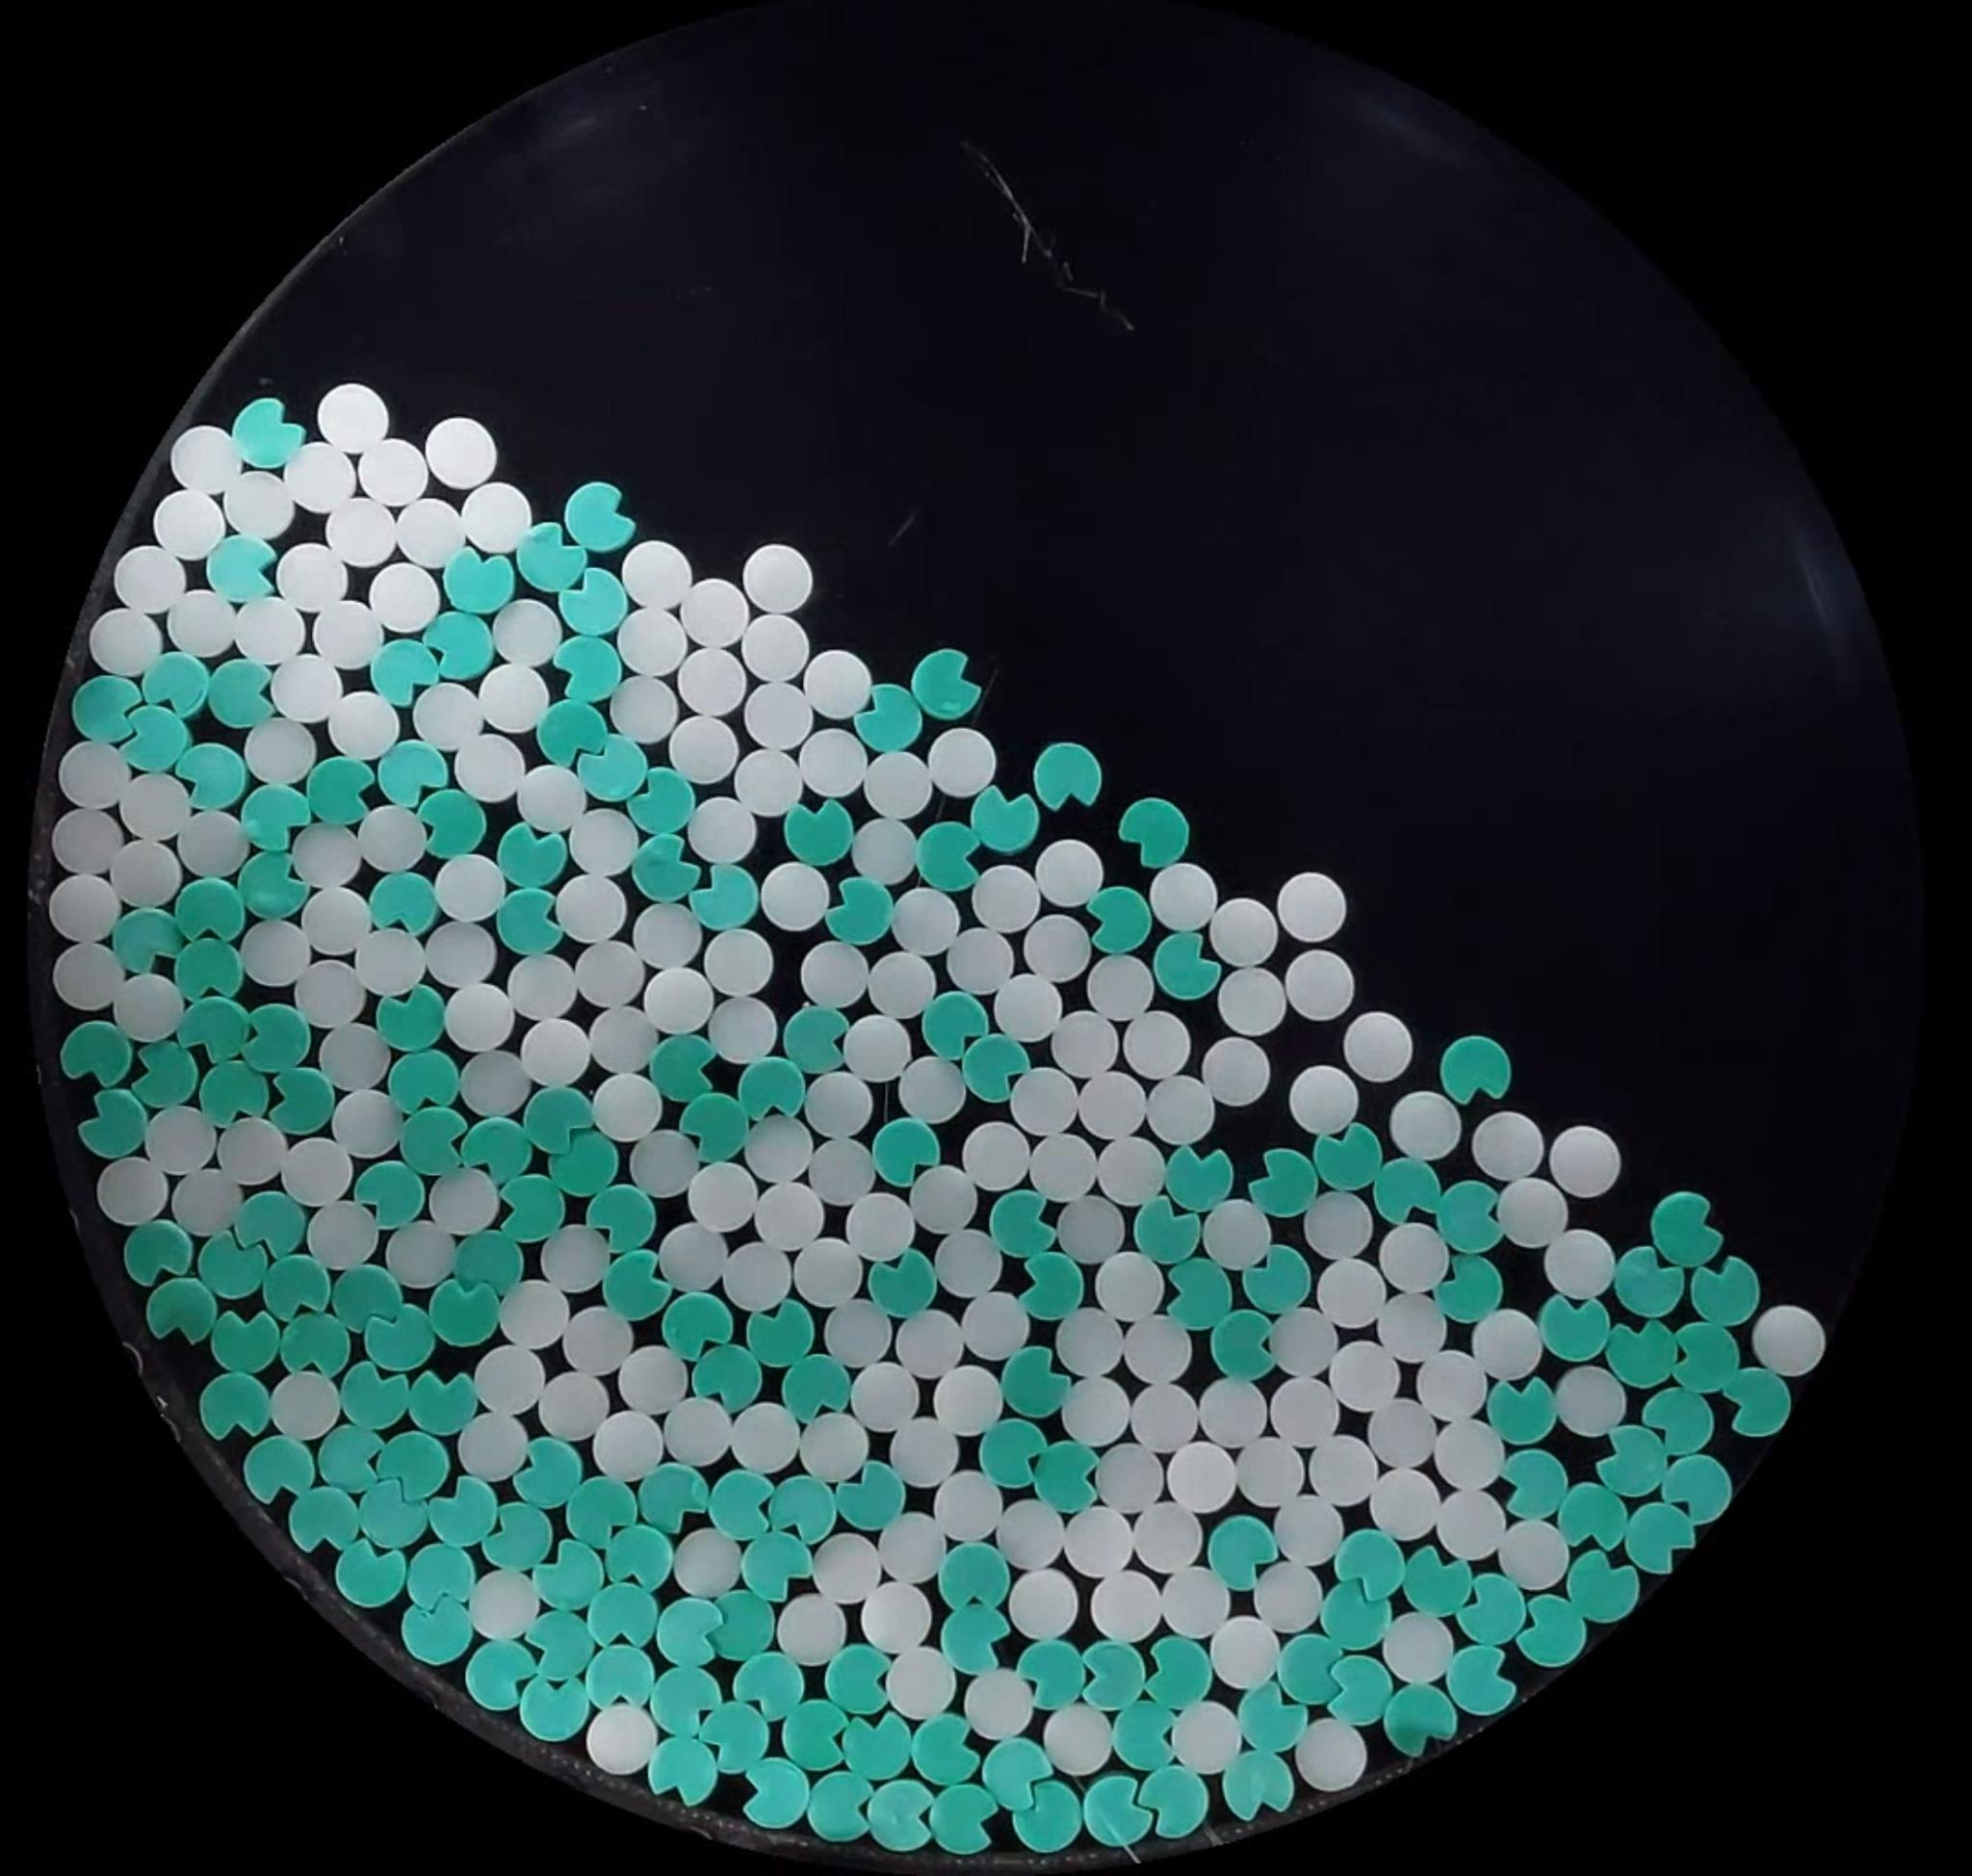no-convexa1: (1606, 1314, 1687, 1395), (1380, 1684, 1467, 1760), (1271, 1631, 1352, 1710), (637, 1462, 715, 1543), (912, 646, 990, 728), (1717, 1360, 1794, 1441), (1639, 1379, 1717, 1460), (1157, 1261, 1236, 1339), (1622, 1496, 1699, 1575), (1116, 794, 1197, 870), (1652, 1185, 1722, 1272), (231, 396, 310, 472), (1564, 1548, 1643, 1624), (137, 1282, 225, 1349), (174, 738, 248, 817), (680, 1092, 759, 1166), (711, 1467, 784, 1548), (930, 1779, 1000, 1862), (977, 1416, 1051, 1494), (1079, 1770, 1153, 1848), (335, 1541, 414, 1614), (1199, 1305, 1278, 1377), (231, 1191, 312, 1261), (563, 479, 637, 555), (424, 606, 500, 680), (204, 657, 278, 733), (375, 1429, 451, 1503), (866, 1247, 942, 1321), (1440, 1034, 1516, 1108), (1611, 1247, 1687, 1321), (736, 1536, 817, 1605), (497, 886, 572, 958), (703, 1700, 775, 1776), (1150, 928, 1225, 1001), (1514, 1599, 1586, 1675), (1484, 1374, 1556, 1450), (1685, 1258, 1761, 1330), (1541, 1293, 1620, 1362), (551, 631, 625, 703), (646, 1735, 720, 1807), (782, 1700, 854, 1774), (938, 1605, 1012, 1677), (780, 1001, 854, 1073), (533, 699, 607, 772), (1444, 1645, 1516, 1719), (1331, 1529, 1403, 1603), (1662, 1453, 1734, 1527), (372, 985, 447, 1055), (560, 1478, 636, 1548), (935, 1545, 1012, 1614), (768, 1469, 833, 1550), (1674, 1314, 1738, 1397), (516, 520, 588, 592), (1030, 1439, 1102, 1511), (1398, 1547, 1470, 1619), (1456, 1575, 1528, 1647), (372, 634, 442, 708), (426, 1480, 500, 1550), (518, 1670, 588, 1744), (653, 1036, 727, 1106), (1236, 1682, 1306, 1756), (1247, 1147, 1321, 1217), (58, 1020, 134, 1089), (361, 1302, 437, 1370), (1326, 1654, 1393, 1732), (1319, 1580, 1396, 1647), (121, 1221, 202, 1284), (1102, 1707, 1183, 1770), (121, 705, 194, 775), (375, 736, 445, 809), (581, 1182, 653, 1252), (342, 1362, 412, 1434), (824, 1645, 896, 1716), (914, 821, 986, 891), (1032, 742, 1102, 814), (1208, 1517, 1278, 1589), (1078, 1642, 1150, 1712), (1372, 1154, 1442, 1226), (659, 1293, 732, 1362), (357, 1483, 431, 1552), (407, 1541, 481, 1610), (403, 1601, 477, 1670), (982, 1739, 1051, 1813), (1310, 1129, 1384, 1198), (984, 1189, 1060, 1256), (1599, 1423, 1666, 1499), (526, 1612, 597, 1682), (1018, 1638, 1088, 1709), (72, 671, 141, 743), (317, 1427, 386, 1499), (650, 1666, 722, 1735), (657, 1598, 725, 1670), (704, 1591, 773, 1663), (843, 1709, 912, 1781), (914, 1716, 986, 1784), (828, 875, 896, 948), (405, 1369, 479, 1436), (537, 1541, 604, 1615), (1437, 1251, 1504, 1325), (685, 865, 761, 930), (694, 1342, 771, 1406), (745, 1754, 806, 1834), (454, 1231, 523, 1302), (289, 1488, 359, 1557), (961, 1034, 1032, 1103), (1002, 1348, 1072, 1416), (1245, 1244, 1313, 1314), (241, 847, 308, 920), (810, 1774, 877, 1846), (784, 801, 856, 868), (1137, 1770, 1210, 1837), (1224, 1753, 1291, 1825), (1498, 1450, 1571, 1517), (310, 750, 375, 824), (428, 1281, 502, 1346), (581, 1645, 655, 1710), (173, 881, 250, 942), (144, 650, 213, 719), (197, 1228, 266, 1296), (747, 1302, 815, 1370), (387, 1046, 458, 1113), (352, 1161, 423, 1228), (210, 1305, 280, 1372), (604, 1251, 671, 1321), (199, 1374, 269, 1441), (516, 1443, 586, 1510), (1143, 1638, 1210, 1709), (562, 562, 627, 634), (113, 909, 185, 974), (269, 1066, 335, 1138), (197, 1062, 269, 1127), (77, 1087, 143, 1159), (497, 1177, 569, 1242), (331, 1265, 403, 1330), (528, 1085, 593, 1157), (970, 786, 1042, 851), (1560, 1481, 1625, 1554), (412, 791, 486, 854), (479, 1506, 553, 1569), (1440, 1180, 1504, 1254), (447, 548, 516, 615), (396, 1103, 463, 1171), (738, 1651, 805, 1719), (1130, 1201, 1199, 1268), (211, 537, 282, 602), (183, 997, 248, 1067), (835, 1466, 900, 1536), (470, 1640, 533, 1712), (546, 1133, 620, 1194), (239, 782, 306, 849), (246, 1437, 313, 1504), (586, 1584, 653, 1651), (262, 1258, 331, 1323), (1088, 884, 1150, 956), (498, 823, 565, 888), (245, 1004, 310, 1071), (785, 1355, 850, 1422), (606, 1522, 671, 1589), (1014, 1784, 1079, 1851), (632, 835, 697, 902), (856, 683, 923, 749), (872, 1120, 937, 1187), (630, 764, 694, 833), (368, 872, 438, 934), (741, 1055, 803, 1126), (173, 939, 246, 997), (463, 1117, 528, 1182), (283, 1312, 349, 1377), (1016, 1254, 1081, 1319), (1169, 1145, 1236, 1208), (879, 1783, 942, 1848), (579, 738, 643, 803), (136, 1043, 197, 1110), (924, 993, 990, 1055)
